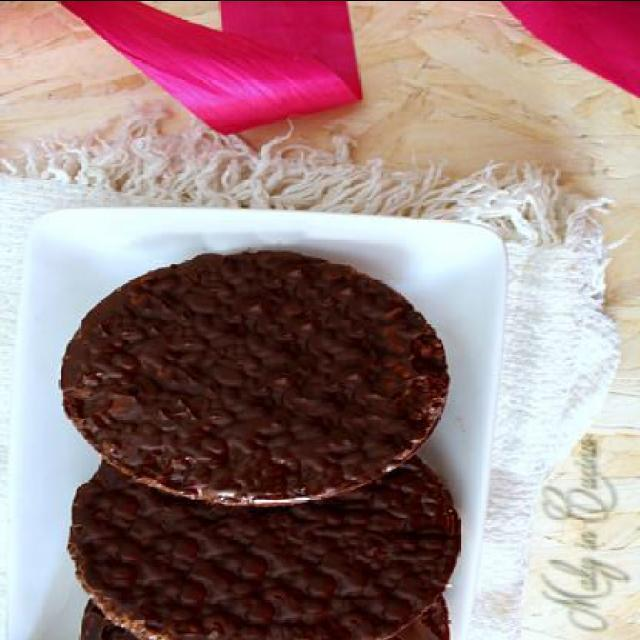Gallette di riso packaged: (63, 242, 460, 500), (68, 438, 464, 634)
